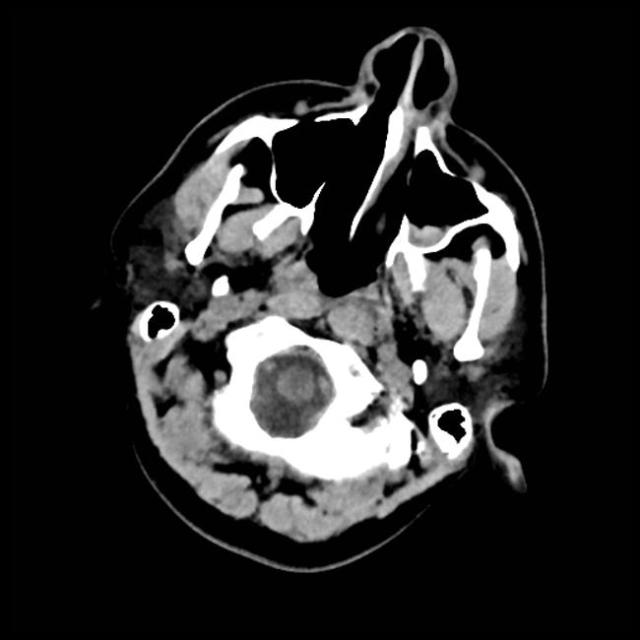lesion: (107, 26, 554, 560)
